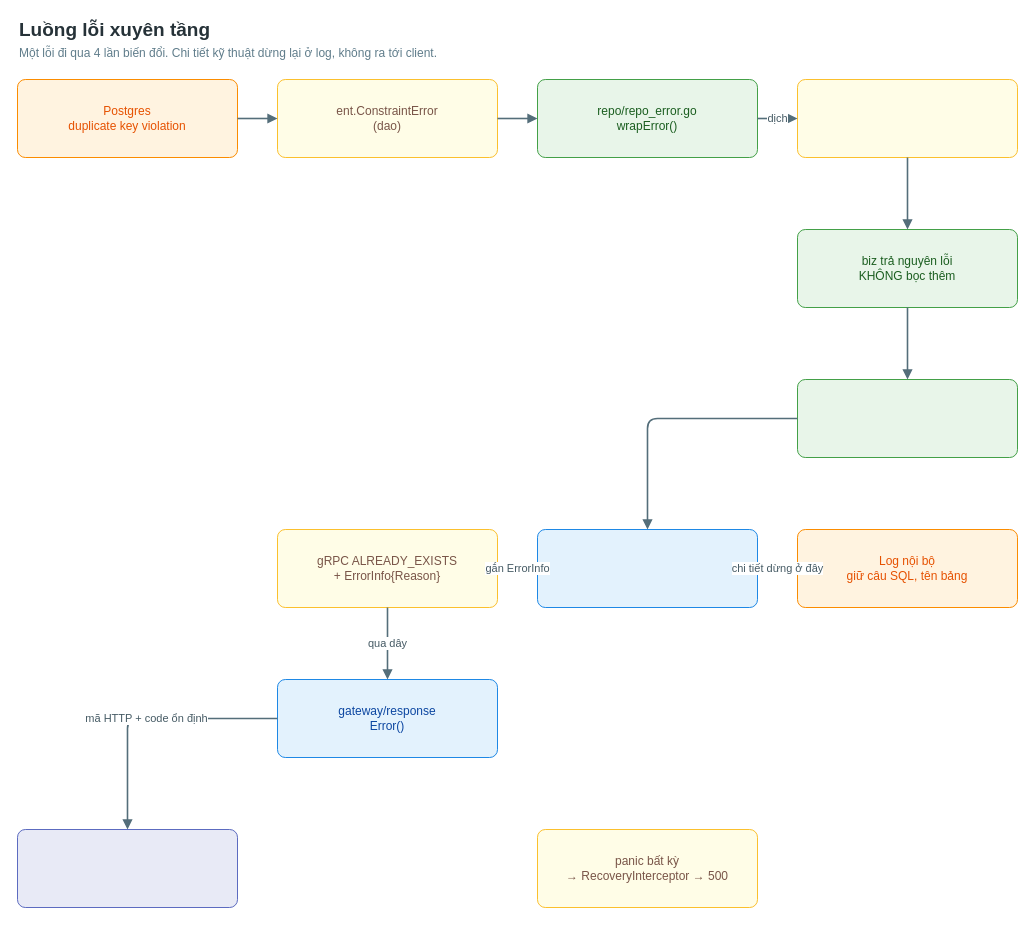
Image size: 1035x925. Some labels were removed from this diagram. Here are the shapes that lost their labels. From the top down, the centre of each, then its label:
(907,118): apperr.Error Kind=AlreadyExists Code=PHONE_ALREADY_USED
(907,418): controller trả nguyên lỗi KHÔNG có status.Errorf
(647,568): pkg/middleware ErrorInterceptor
(127,868): HTTP 409 {code, message, request_id}
